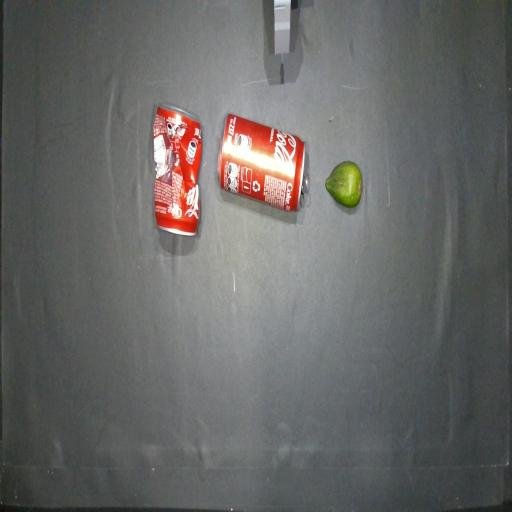higo: (325, 161, 362, 208)
lata: (218, 114, 307, 211)
lata_defectuoso: (153, 105, 202, 235)
